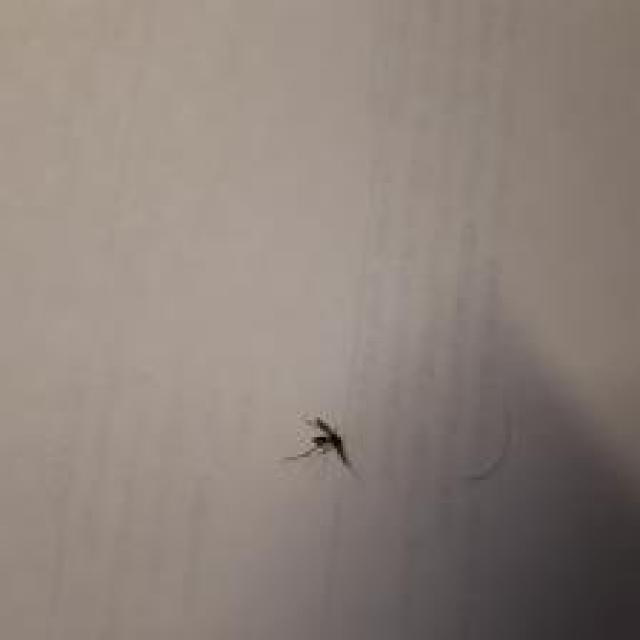Aedes albopictus: (284, 416, 353, 467)
